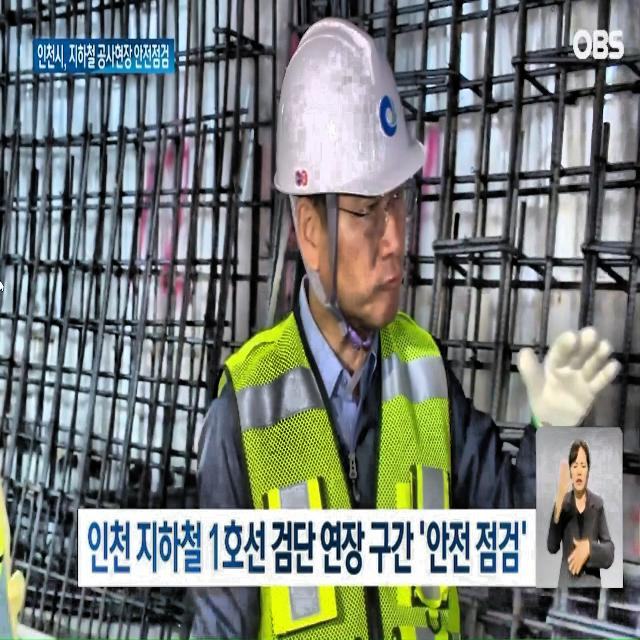safety_helmet: (248, 13, 452, 207)
safety_jacket: (215, 322, 495, 640)
